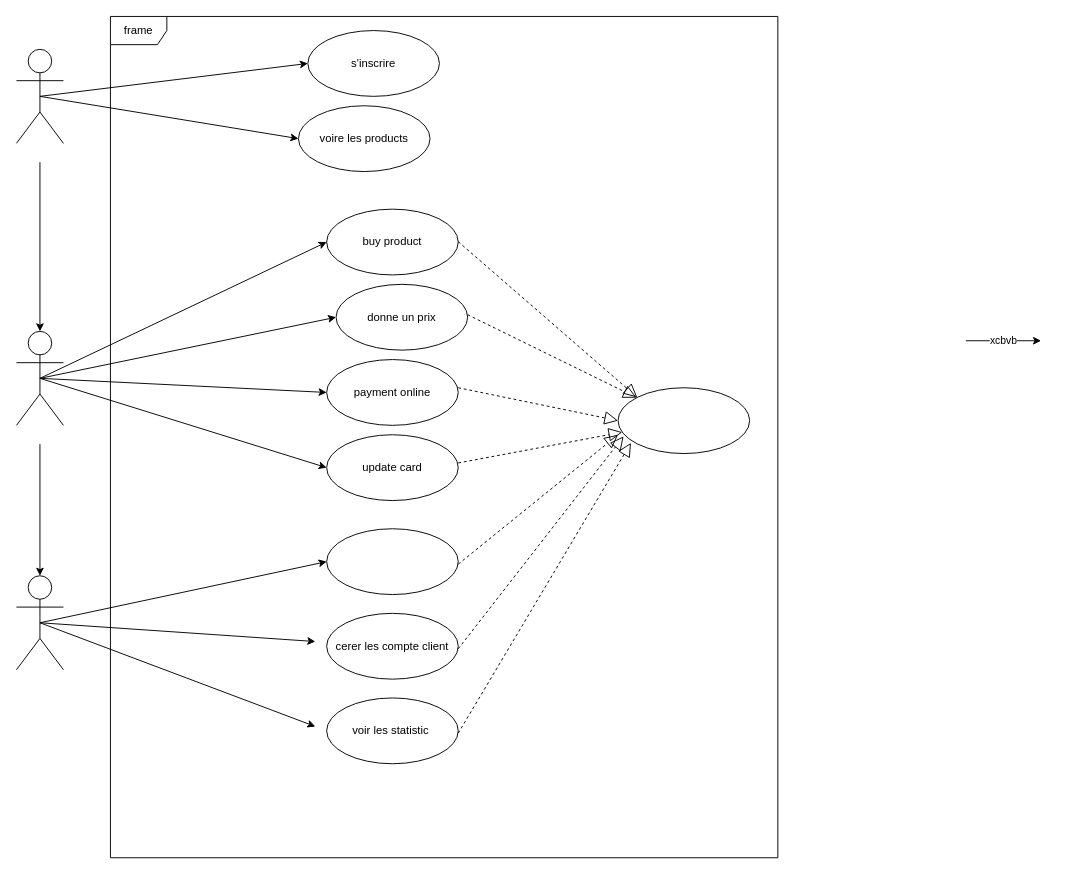
Image size: 1065x874. Some labels were removed from this diagram. Each missing label, with the box of its shape:
admin: (16, 575, 63, 670)
approve les product: (326, 528, 458, 595)
Autheentification: (617, 387, 750, 454)
client: (16, 330, 63, 425)
visiteur: (16, 48, 63, 143)
